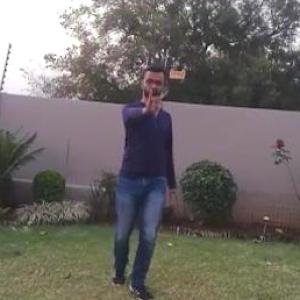takeoff-hand: (136, 81, 170, 118)
